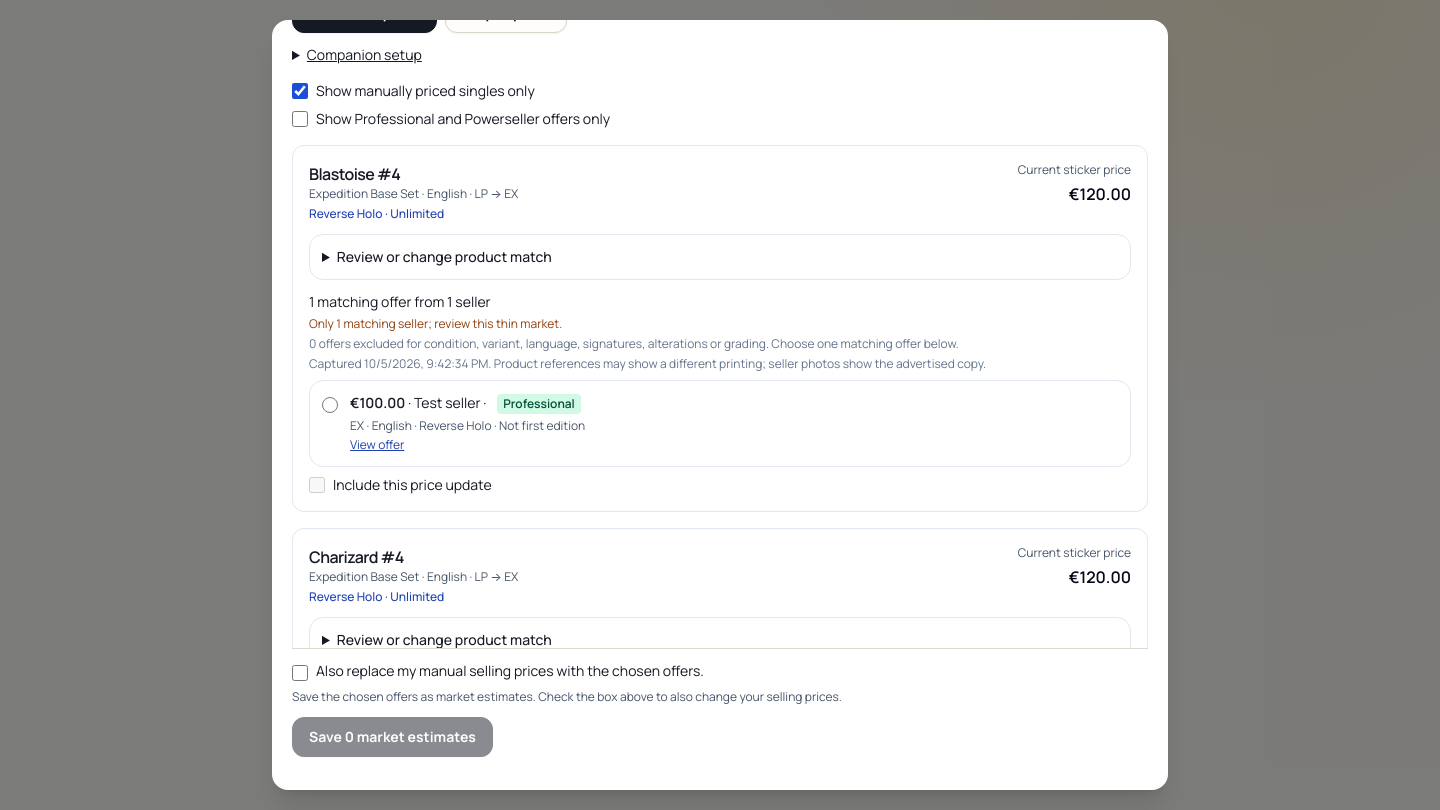
Scenario: shows failed saves beside the button and preserves the chosen offer for retry
(page scrolled)
Click the radio button.
click(330, 405)  # box [322, 397, 338, 413]
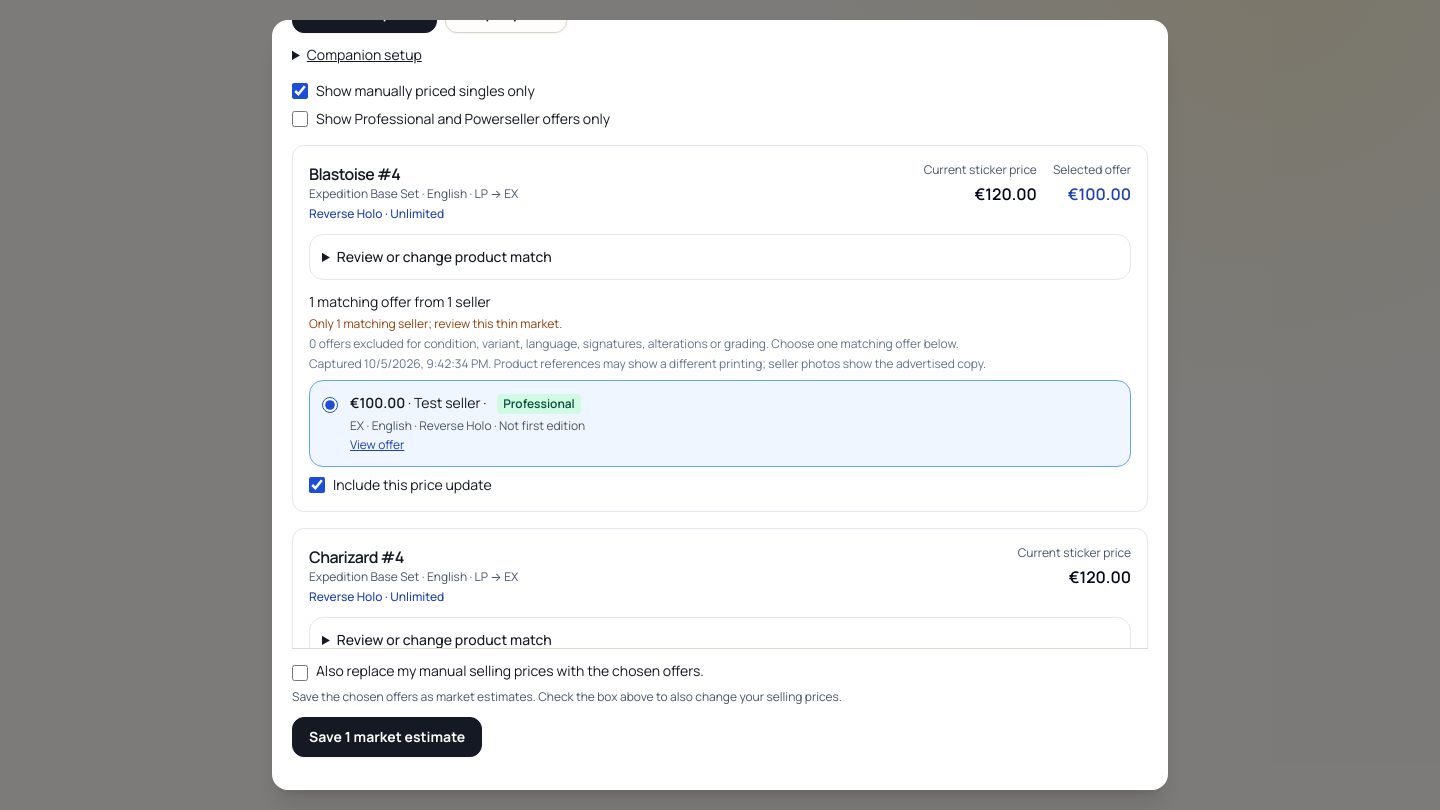
Click the button "Save 1 market estimate".
click(387, 738)  # box [292, 718, 482, 758]
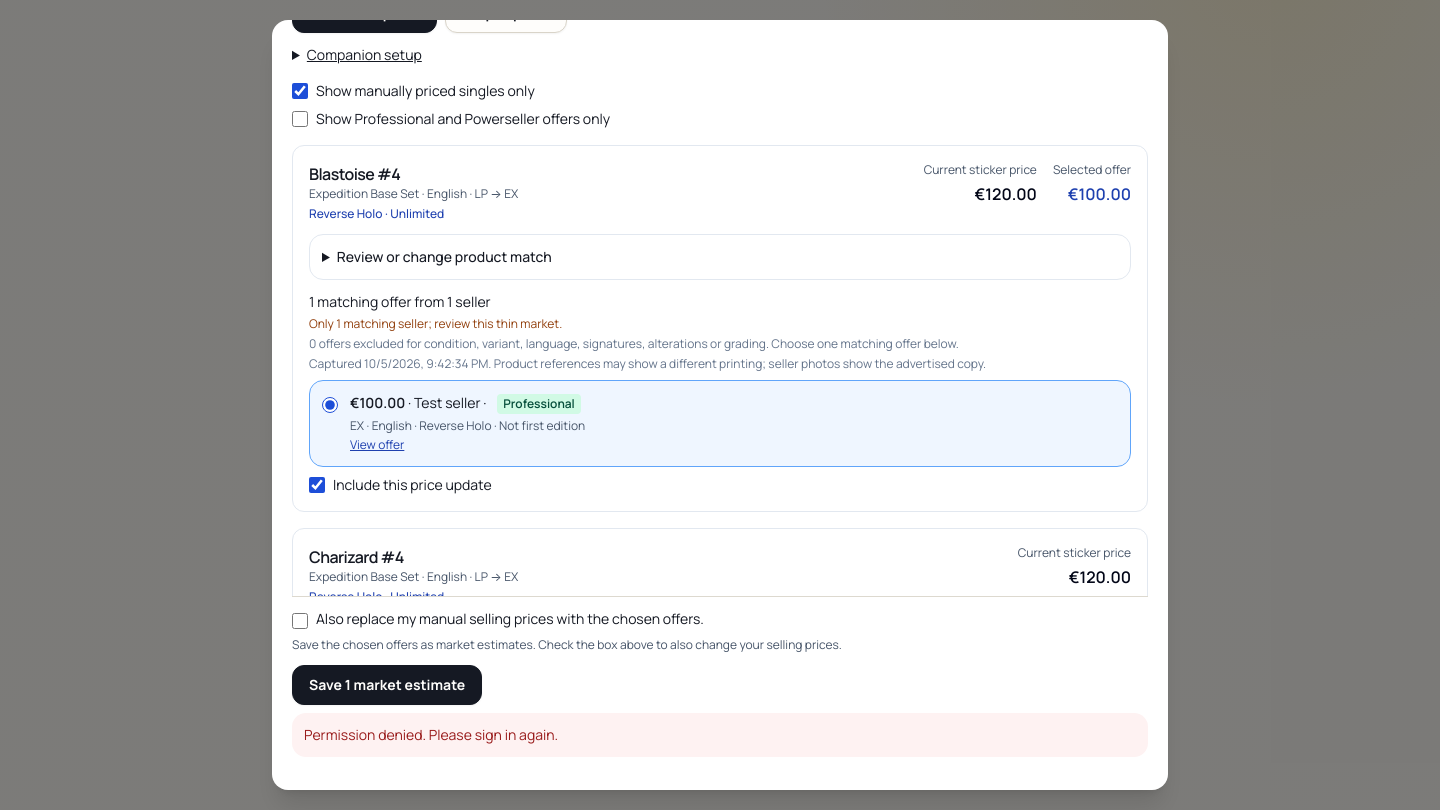
Check: the radio button is checked, box [322, 397, 338, 413]
Check: the button "Save 1 market estimate" is enabled, box [292, 666, 482, 706]
Check: the message "Permission denied. Please sign in again." is shown, box [292, 714, 1148, 758]
